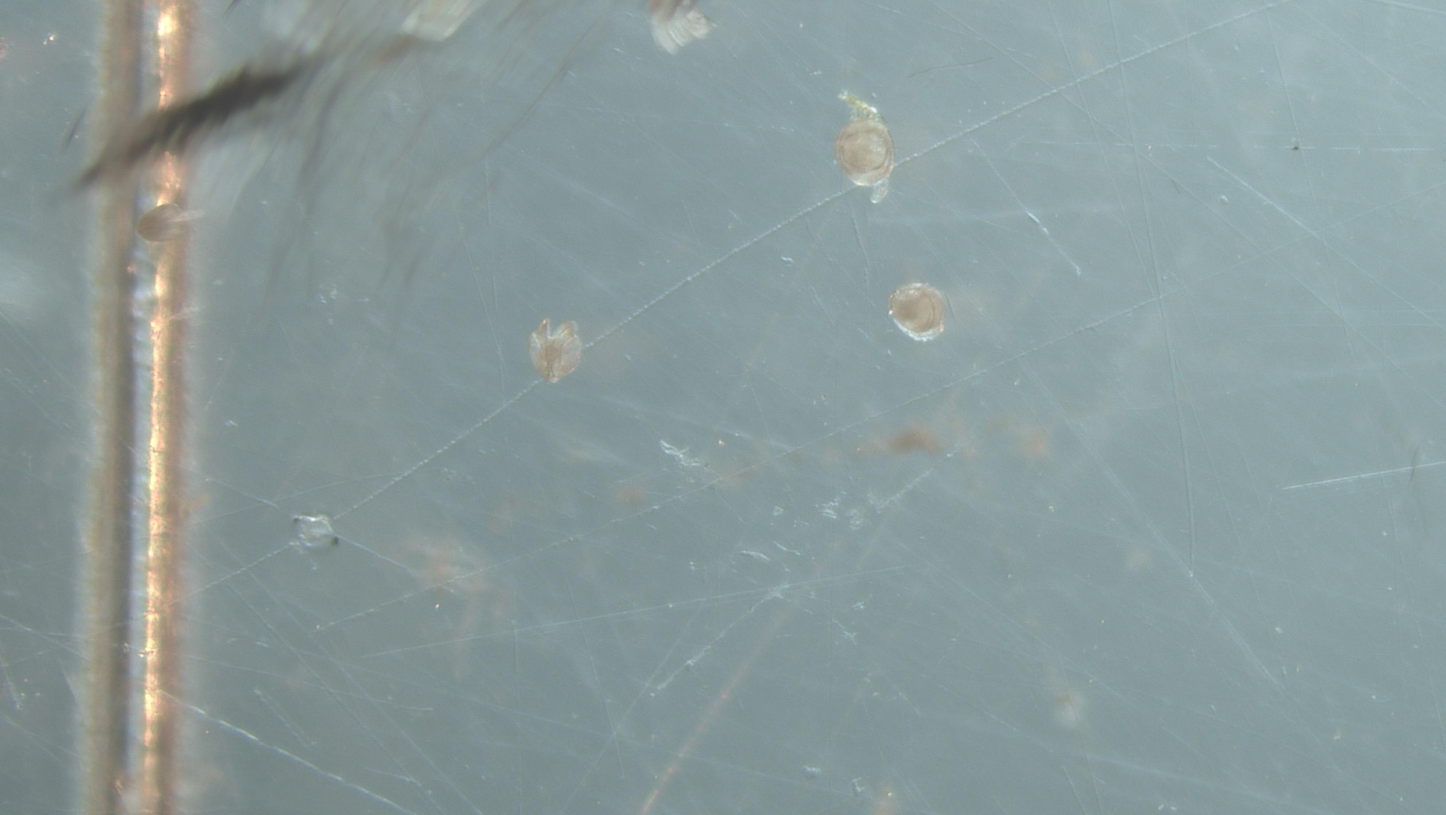live: (833, 92, 896, 203), (529, 319, 583, 383), (889, 283, 947, 342)
